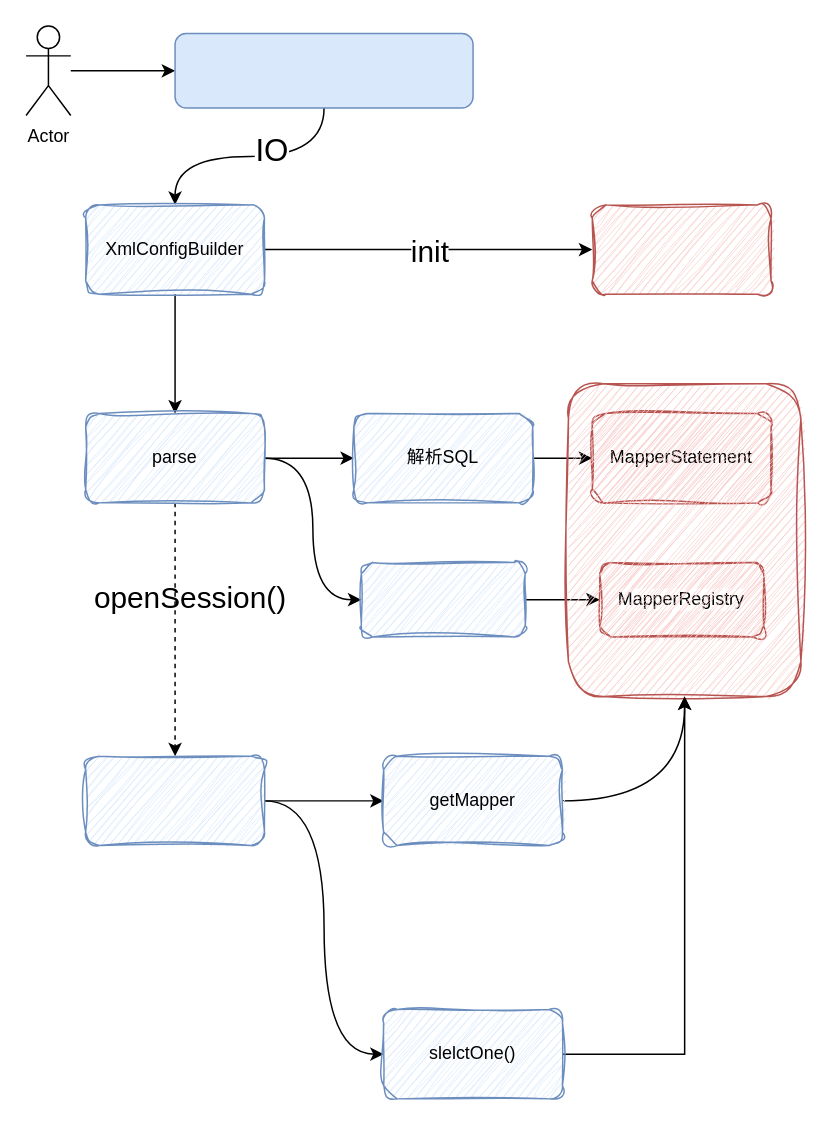
Some shapes in this 827 by 1125 pixel diagram are drawn without their labels. Here are the shapes that lost their labels. From the top down, the centre of each, then its label:
the point at 323,70: SqlSessionFactoryBuilder
the point at 681,248: Configuration
the point at 442,599: 注册Mapper
the point at 174,800: DefaultSqlSession
